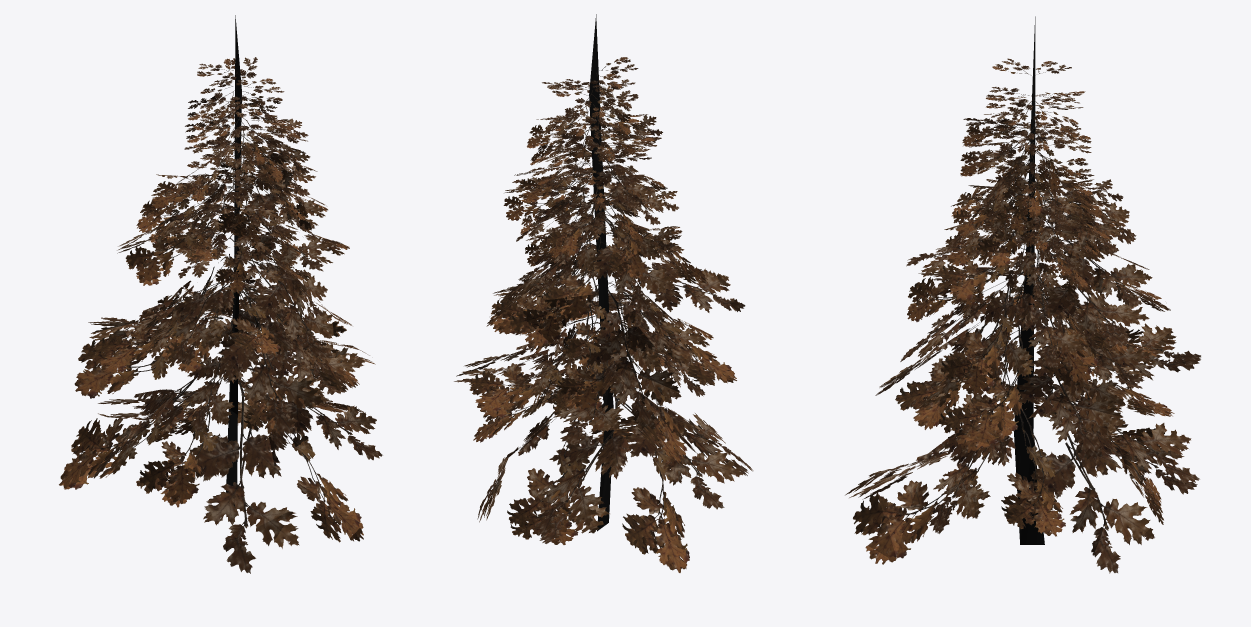
The model's file is spruce3 lod2.FBX.
3 renders of one model, left to right at view 1: azimuth 30°, elevation 25°; view 2: azimuth 150°, elevation 25°; view 3: azimuth 270°, elevation 25°, orthographic. The views are drawn at different scales.
Parts seen in each view (by area): view 1: spruce3_LOD2; view 2: spruce3_LOD2; view 3: spruce3_LOD2.
Boxes of the visible parts, bbox=[...] form: spruce3_LOD2: bbox=[59, 15, 382, 573]; spruce3_LOD2: bbox=[454, 14, 753, 572]; spruce3_LOD2: bbox=[845, 16, 1200, 573].
Size of the model in its own units: 59037 by 97928 by 68053.
